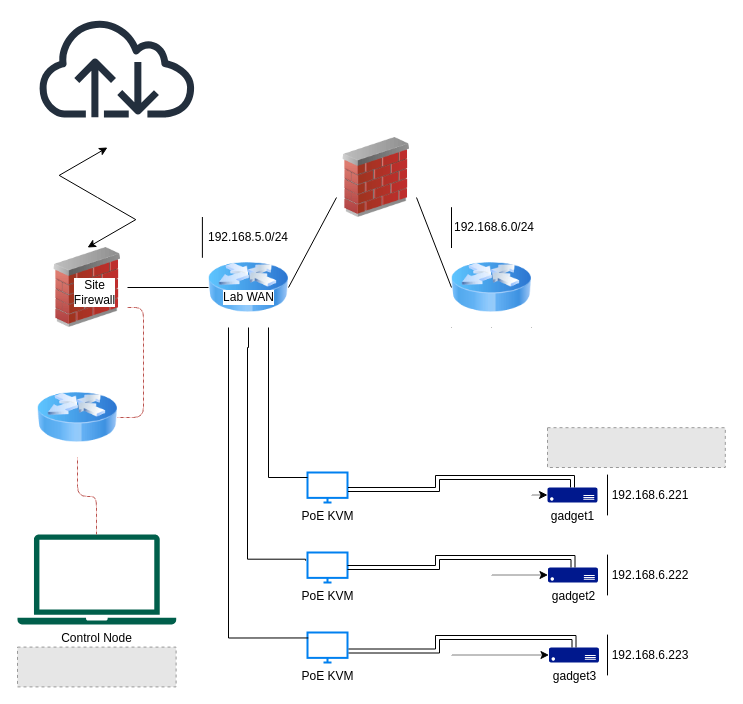
This 743x704 diagram has some shape labels left out. Grey dashed boxes stand in for pictures. Each missing label, with the centre of its shape:
"Internet" belongs at pixel 116 67.
"Lab Firewall" belongs at pixel 376 177.
"Lab LAN" belongs at pixel 491 287.
"LAN" belongs at pixel 77 417.
